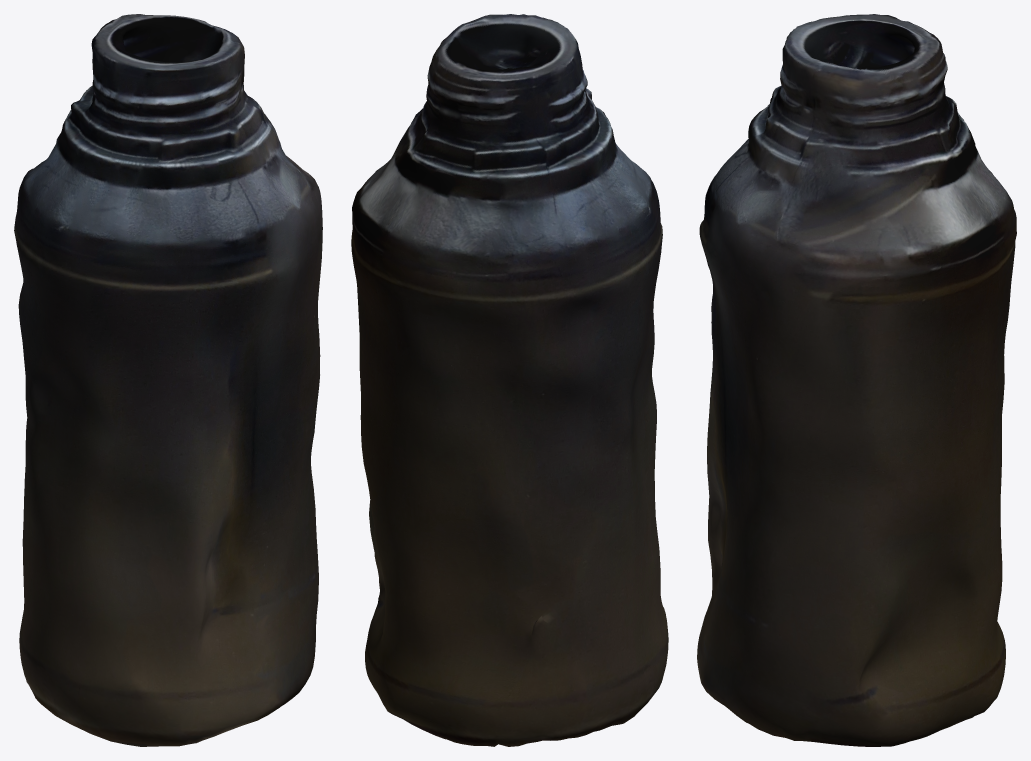
The model's file is 未命名.obj.
3 views of the same model, side by side, from view 1: azimuth 30°, elevation 25°; view 2: azimuth 150°, elevation 25°; view 3: azimuth 270°, elevation 25° (orthographic).
Parts seen in each view (by area): view 1: Mesh; view 2: Mesh; view 3: Mesh.
Boxes of the visible parts, x1,y1,x2,y2 form: Mesh: [14, 14, 322, 746]; Mesh: [351, 14, 668, 746]; Mesh: [697, 14, 1016, 746].
Bounding box in the file's own units: 0.0598 × 0.1407 × 0.0613.
1 material, 1 textured.
